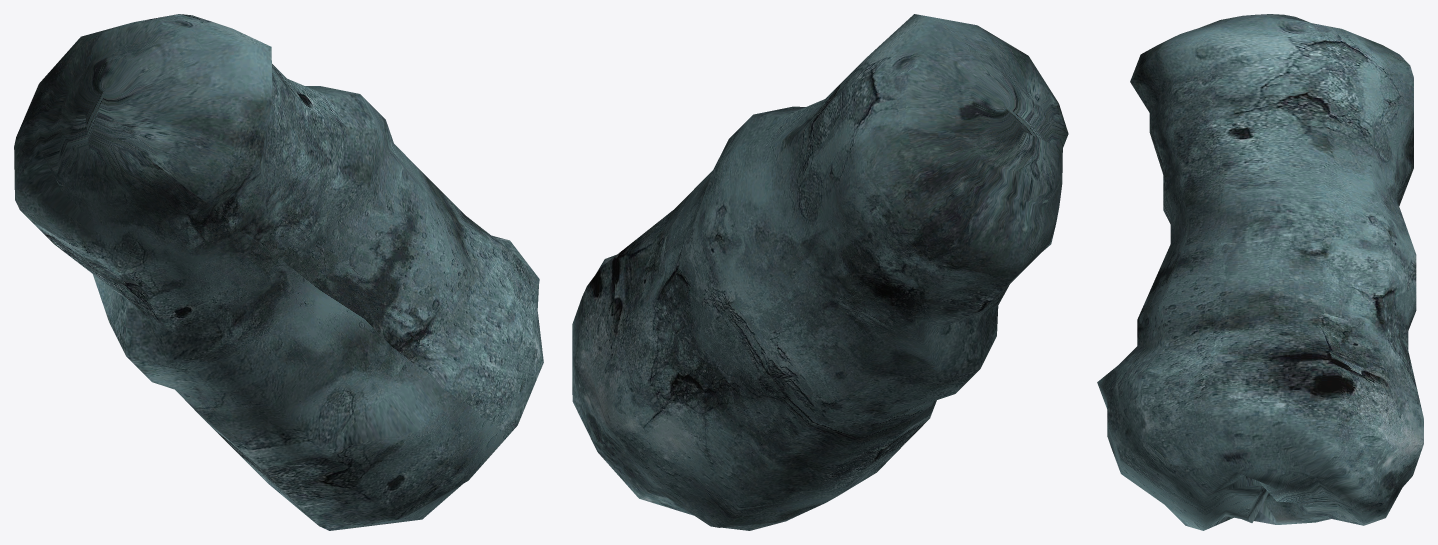
The model's file is Asteroid03.DAE.
3 views of the same model, side by side, from view 1: azimuth 30°, elevation 25°; view 2: azimuth 150°, elevation 25°; view 3: azimuth 270°, elevation 25° (orthographic). The views are drawn at different scales.
Visible parts, largest first — view 1: azul; view 2: azul; view 3: azul.
Boxes of the visible parts, bbox=[...] form: azul: bbox=[14, 14, 543, 530]; azul: bbox=[572, 14, 1068, 530]; azul: bbox=[1097, 14, 1423, 530].
Bounding box in the file's own units: 2.22 × 1.58 × 2.37.
Materials: 1 (1 with a texture image).
